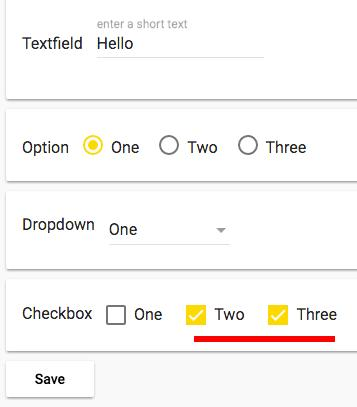button: (3, 359, 96, 398)
checkbox: (185, 303, 209, 327), (267, 304, 292, 327), (105, 305, 130, 327)
checkbox_with_label: (263, 302, 336, 329), (183, 300, 244, 329), (102, 303, 165, 329)
field: (94, 32, 265, 59), (106, 220, 230, 247)
field_with_label: (22, 30, 268, 61), (20, 216, 232, 249)
radio: (81, 134, 107, 156), (158, 134, 182, 156), (239, 135, 261, 155)
radio_with_label: (237, 131, 309, 158), (155, 132, 216, 160), (77, 132, 140, 158)
